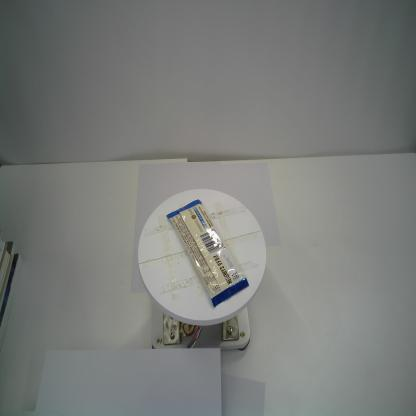Chocolate: (166, 197, 250, 310)
